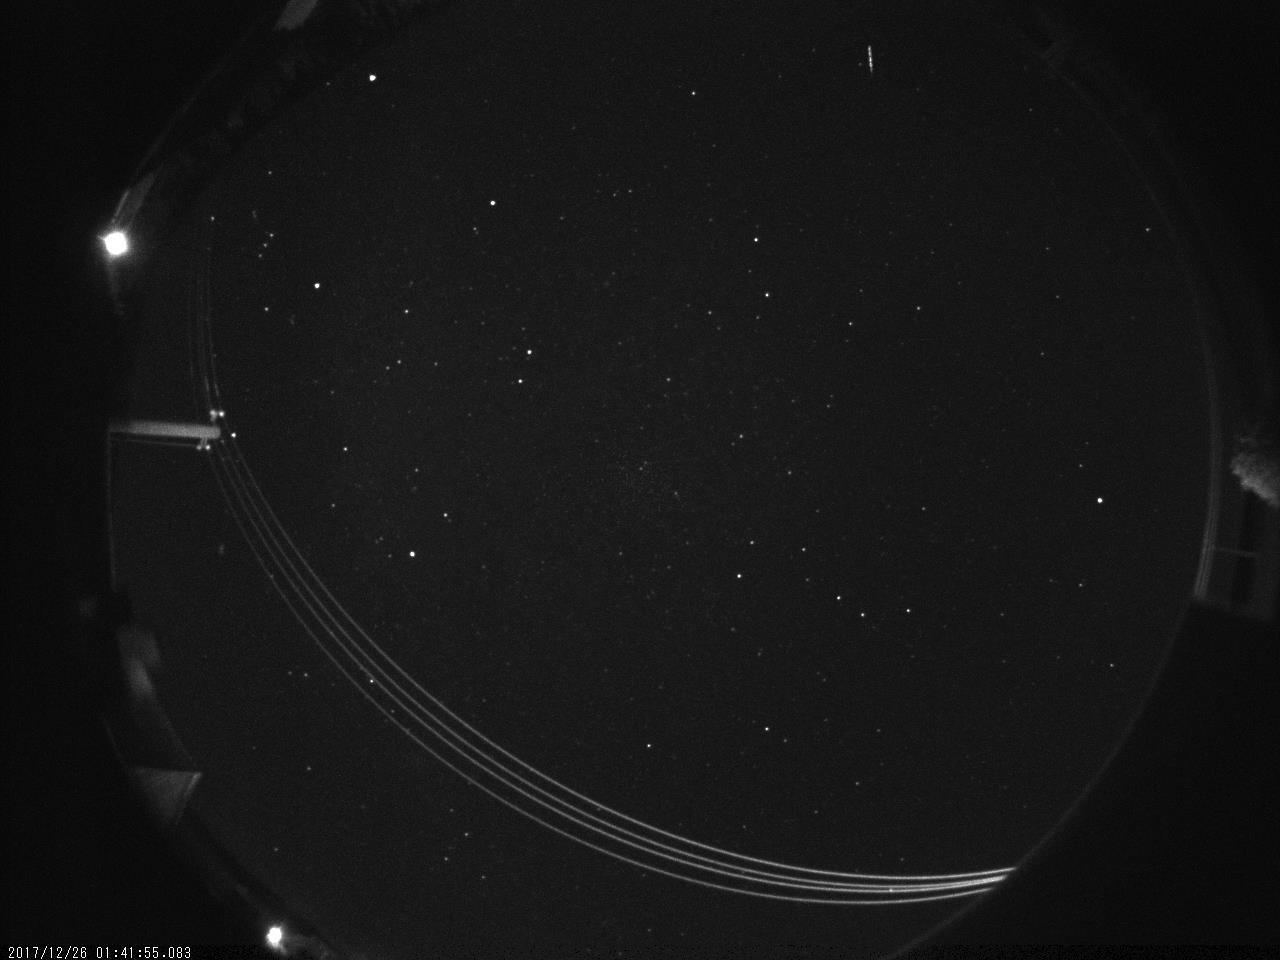Meteor: (865, 41, 875, 76)
